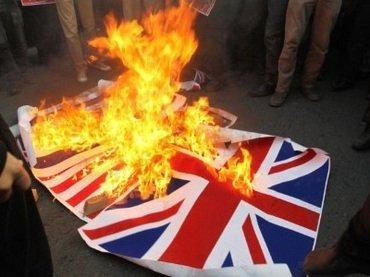fire: (24, 3, 254, 207)
